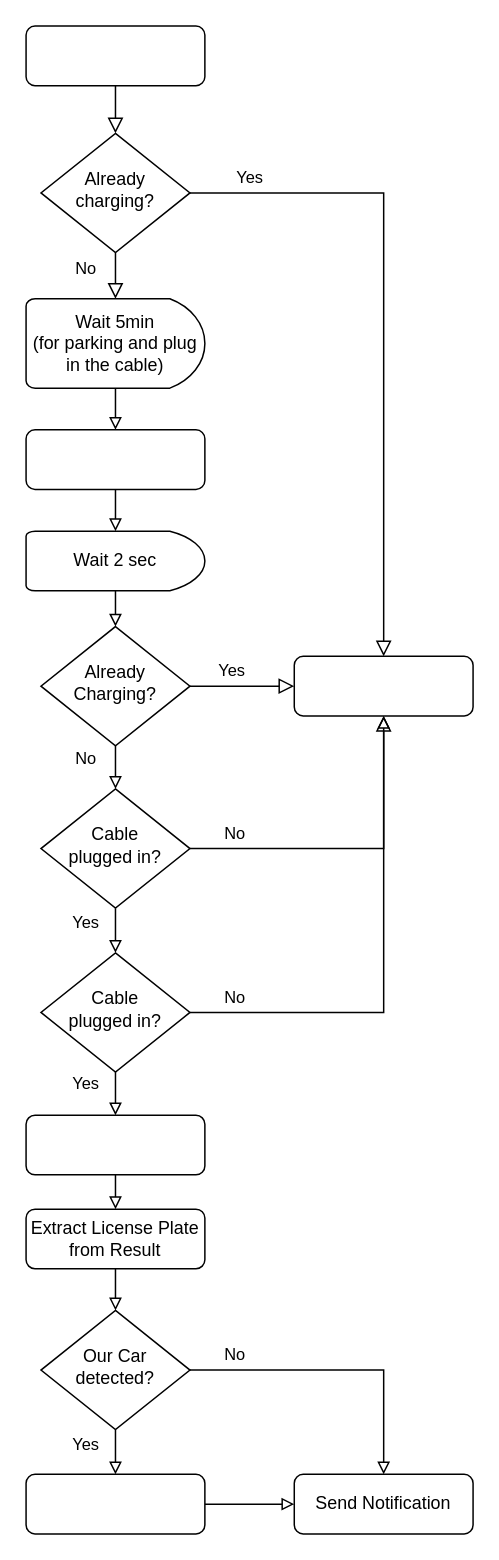
Image size: 499x1560. Some labels were removed from this diagram. Each missing label, with the box of its shape:
Authorise EV Charger & Start Charging: (25, 1473, 205, 1534)
Car detected on Camera: (25, 25, 205, 86)
Do nothing: (293, 655, 473, 716)
Send Snapshot to AI for Analysis: (25, 1114, 205, 1175)
Take Camera Snapshot: (25, 428, 205, 489)
